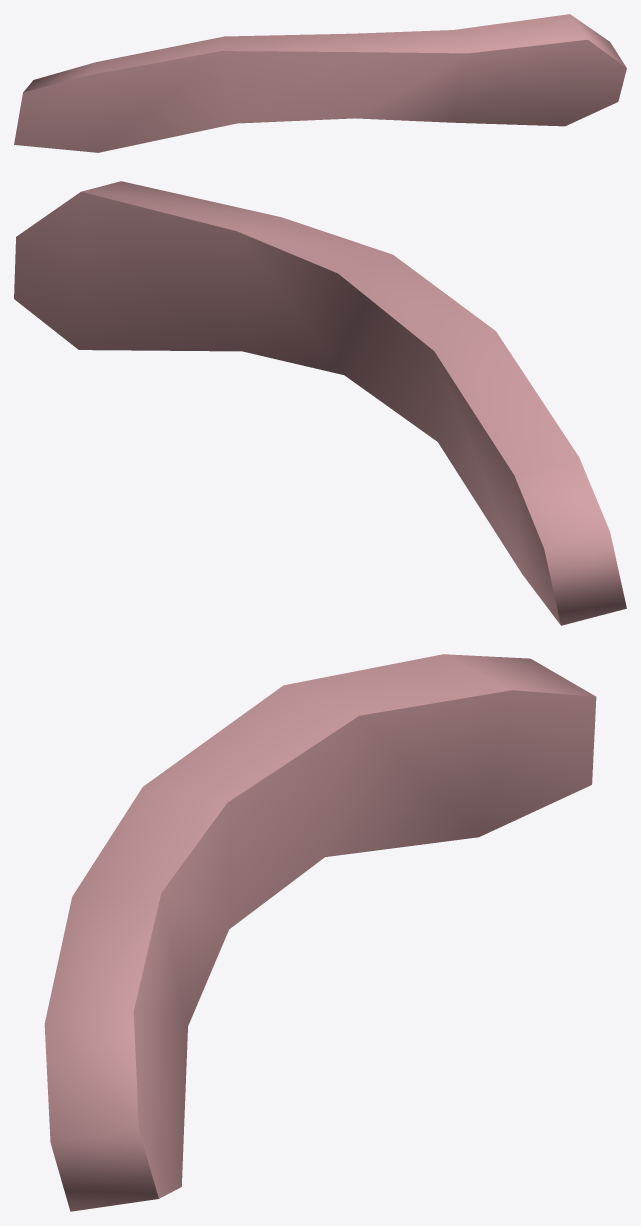
The picture shows the model from 3 angles, top to bottom: view 1: azimuth 30°, elevation 25°; view 2: azimuth 150°, elevation 25°; view 3: azimuth 270°, elevation 25°; orthographic projection. The views are drawn at different scales.
Visible parts, largest first — view 1: ZA_cd1194e0b75e11ed; view 2: ZA_cd1194e0b75e11ed; view 3: ZA_cd1194e0b75e11ed.
Part boxes in pixels (x1=…): ZA_cd1194e0b75e11ed: x1=14, y1=14, x2=626, y2=152; ZA_cd1194e0b75e11ed: x1=14, y1=181, x2=626, y2=625; ZA_cd1194e0b75e11ed: x1=44, y1=654, x2=596, y2=1211.
Bounding box in the file's own units: 0.0378 × 0.00815 × 0.0181.
